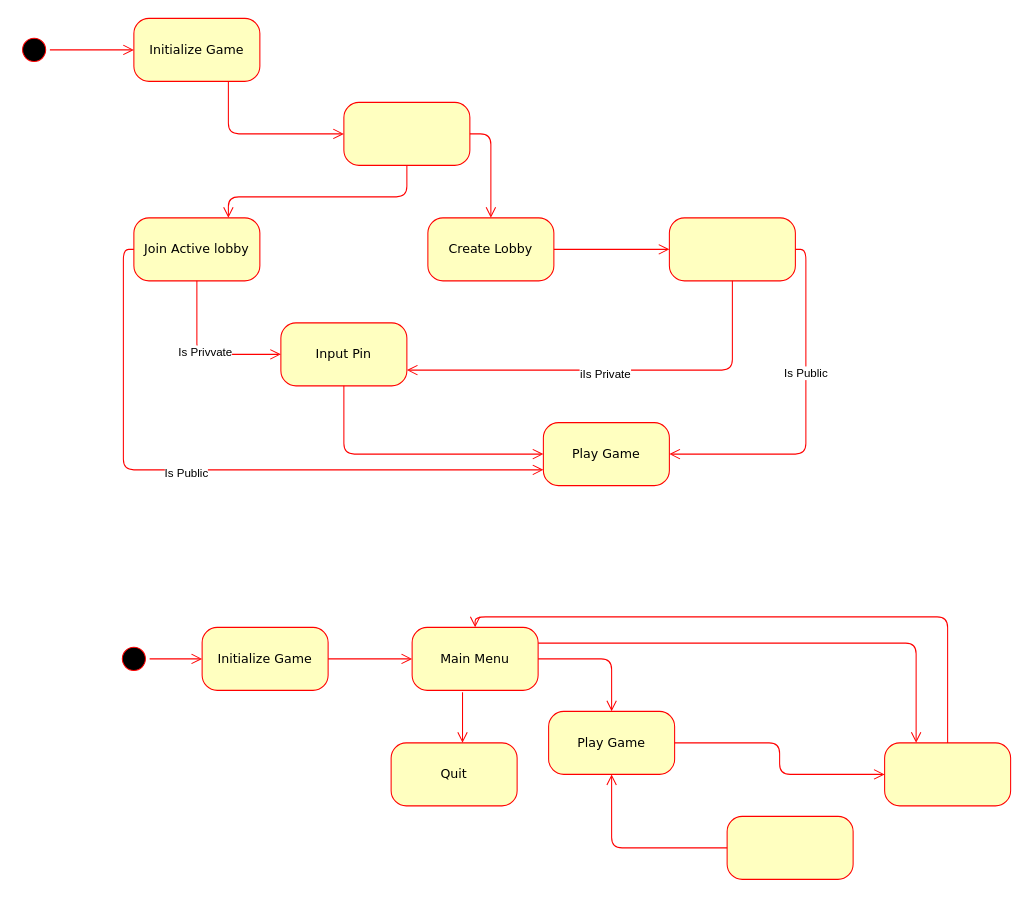
Some shapes in this 1029 by 898 pixel diagram are drawn without their labels. The centre of each missing label's shape, as x and y in pixels:
Input Lobby Name: the point at 731,249
Play Menu: the point at 406,133
Rematch: the point at 789,847
Win/ Lose: the point at 947,774
